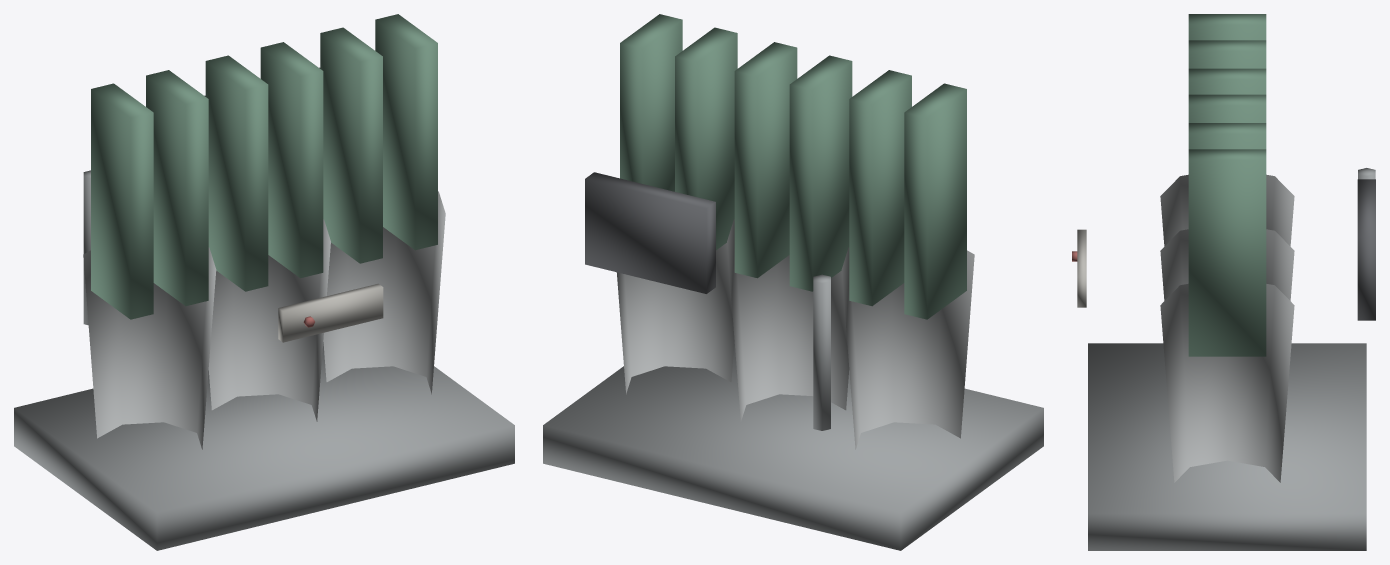
File: flower_bucket_rack__service.glb
The picture shows the model from 3 angles, left to right: view 1: azimuth 30°, elevation 25°; view 2: azimuth 150°, elevation 25°; view 3: azimuth 270°, elevation 25°; orthographic projection. The views are drawn at different scales.
Visible parts, largest first — view 1: world; view 2: world; view 3: world.
Part boxes in pixels (x1=…): world: x1=14, y1=14, x2=514, y2=550; world: x1=543, y1=14, x2=1043, y2=550; world: x1=1072, y1=14, x2=1375, y2=550.
Size of the model in its own units: 0.78 by 0.81 by 0.5885.
